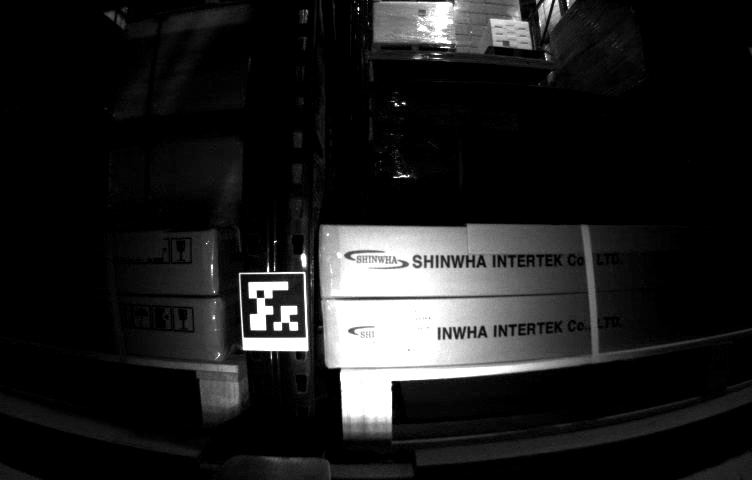True Barcode: (378, 301, 437, 361)
